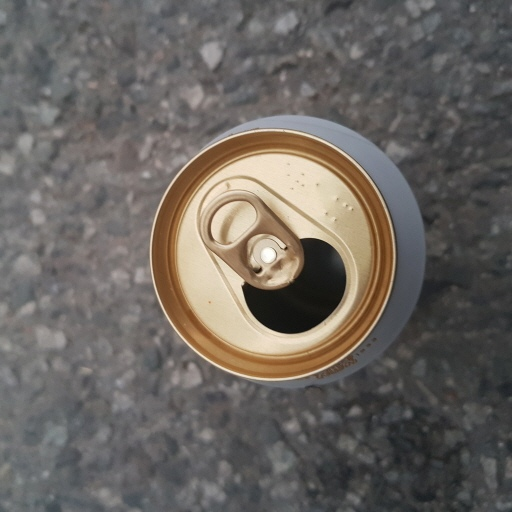Metal_0: (148, 113, 428, 390)
